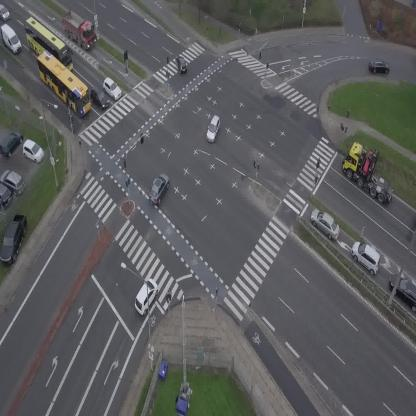bicycle: (68, 115, 75, 130)
bus: (28, 47, 100, 118), (14, 15, 83, 77)
car: (346, 238, 388, 278), (305, 205, 345, 242), (129, 276, 162, 317), (145, 171, 174, 207), (85, 85, 113, 112), (99, 75, 125, 101), (203, 114, 224, 144), (368, 58, 390, 75), (174, 54, 188, 74), (0, 4, 10, 21)
lorry: (335, 136, 399, 215), (54, 7, 103, 53), (0, 22, 26, 57)
